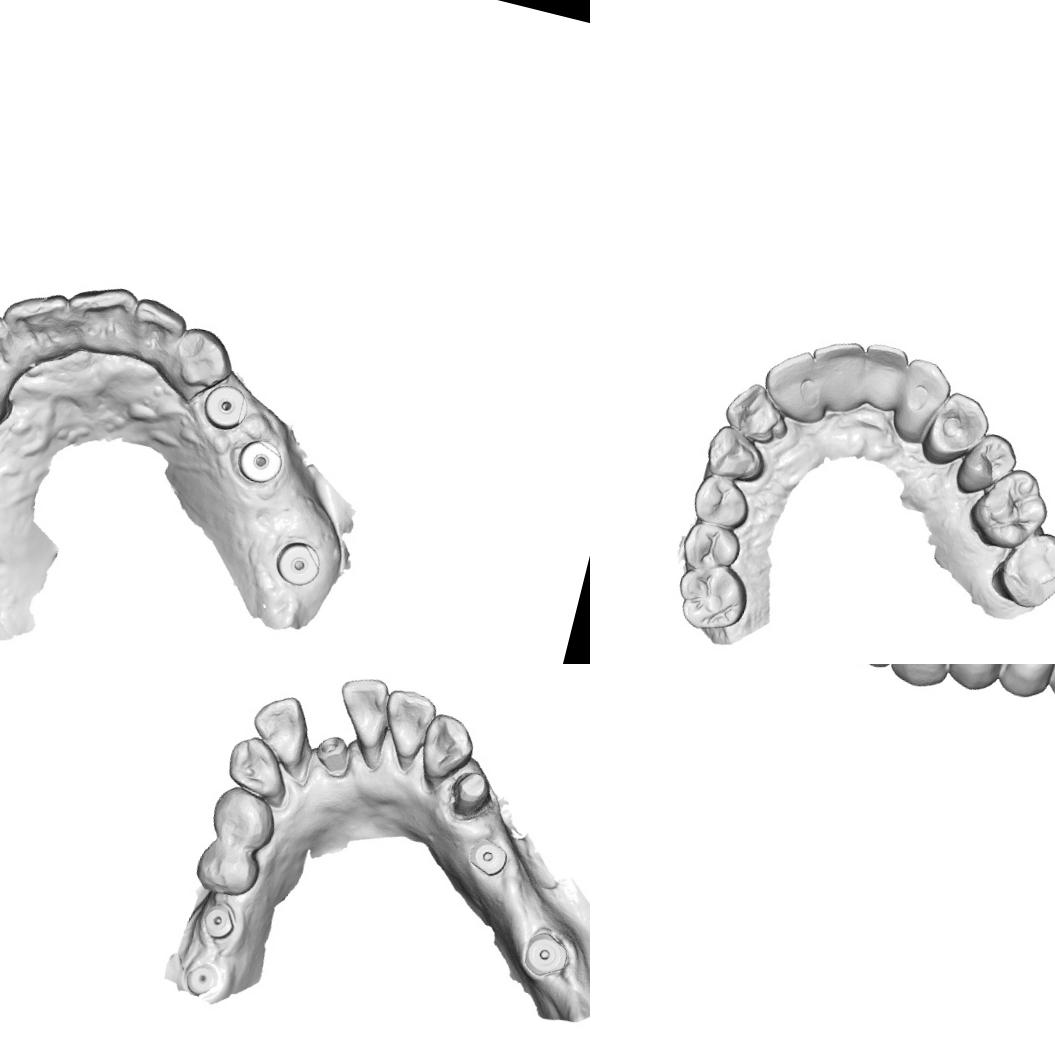canine: (887, 354, 956, 448), (166, 318, 239, 392), (218, 731, 295, 801), (412, 709, 480, 788), (702, 422, 772, 486), (884, 664, 956, 693)
crown: (450, 764, 500, 822)
implant: (235, 434, 294, 491), (270, 530, 326, 590), (520, 924, 574, 984), (201, 378, 251, 433), (308, 730, 356, 777), (178, 950, 222, 1001), (467, 835, 513, 880), (197, 895, 241, 938)
incisor: (755, 342, 838, 430), (62, 278, 142, 352), (243, 688, 316, 768), (373, 680, 441, 762), (800, 332, 868, 413), (719, 378, 796, 448), (326, 670, 395, 748), (1, 286, 72, 348), (853, 340, 910, 413), (122, 296, 184, 357), (0, 308, 21, 369)
molar: (963, 459, 1055, 557), (668, 554, 754, 638), (986, 522, 1055, 615)
premolar: (917, 386, 995, 474), (952, 426, 1022, 504), (206, 786, 277, 853), (190, 840, 266, 898), (677, 516, 745, 578), (688, 471, 755, 532), (994, 664, 1055, 704), (941, 664, 1010, 697)
